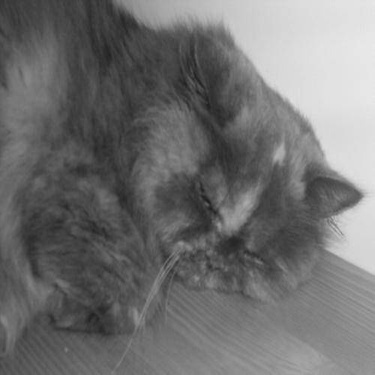cat: (1, 1, 355, 340)
